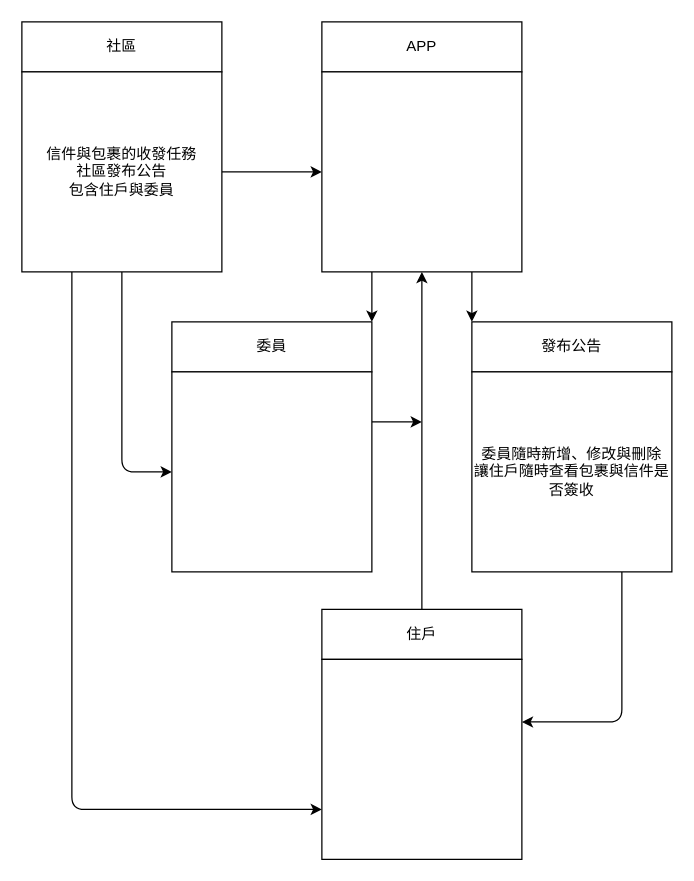
Some shapes in this 694 by 881 pixel diagram are drawn without their labels. Each missing label, with the centre of its shape:
只有委員能編輯與刪除公告 擁有專屬的職位: the point at 271,471
手機綁定APP 針對公告進行交文章回應: the point at 421,758
認真簽收後， 傳送或推撥簡訊給包裹所有人 只有委員能編輯與刪除公告 住戶最多可綁定2支手機APP: the point at 421,171
